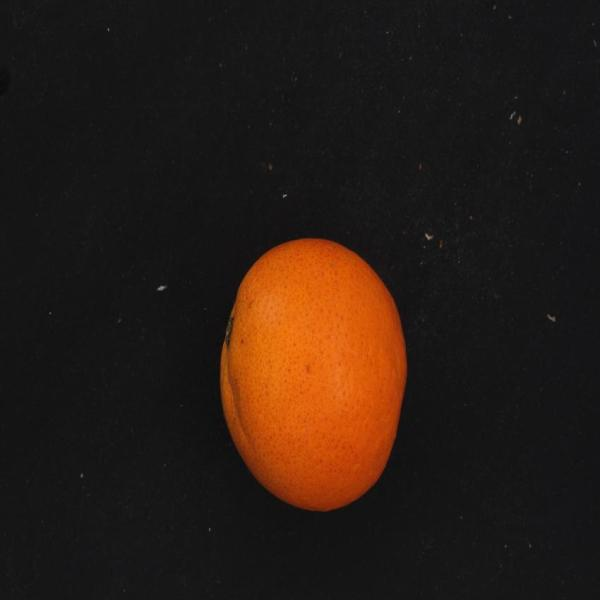Sana: (206, 232, 412, 524)
